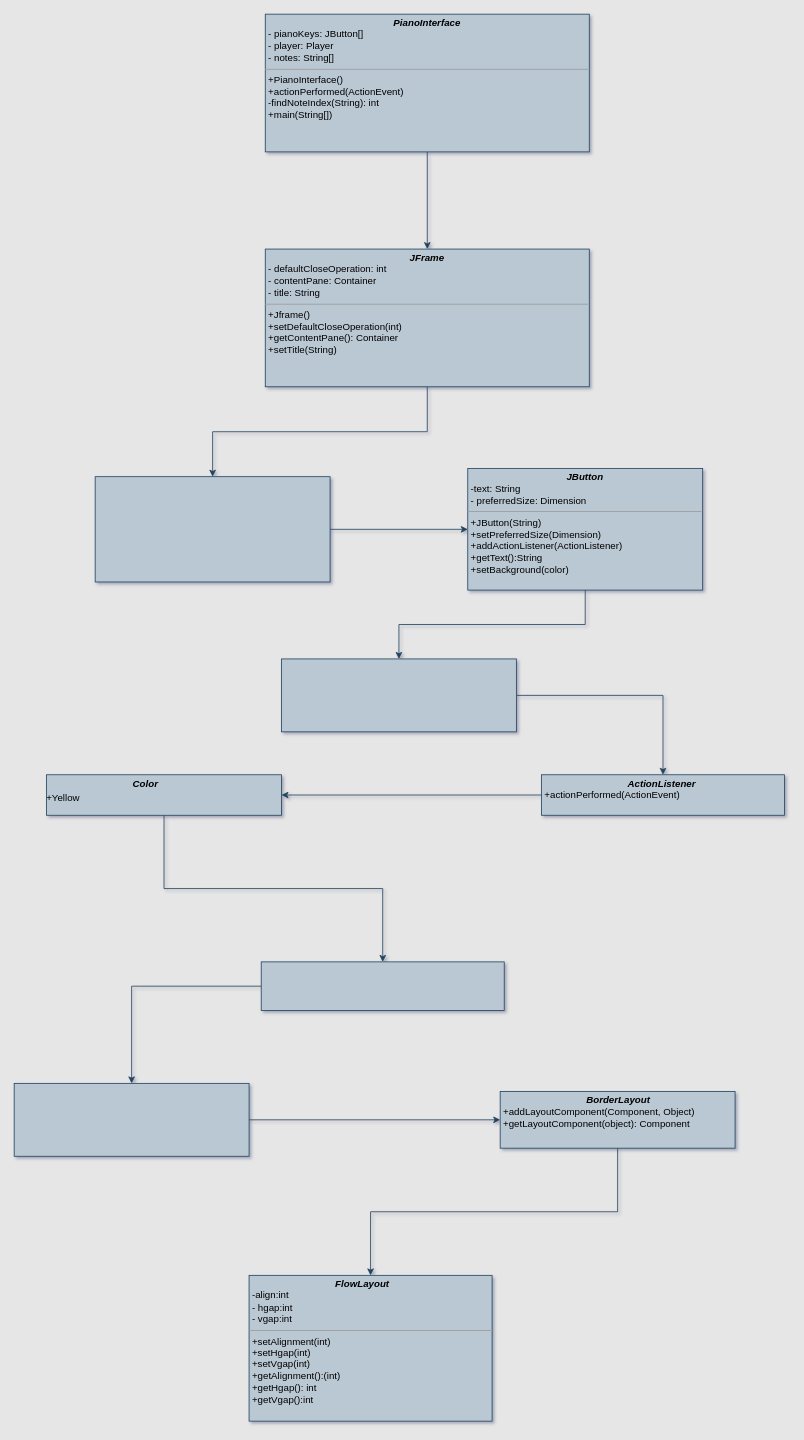
Image size: 804x1440. Some labels were removed from this diagram. The shapes that lost their labels are listed below. From the top down, each one's centre as x and y in pixels, then its label:
At pixel 212 529: "JPanel -layout: LayoutManager +JPanel() +setLayout(LayoutManager)".
At pixel 398 695: "Player -playerField:Player +Player() +Play(String)".
At pixel 382 985: "Thread +Thread(Runnable) +start()".
At pixel 131 1119: "Dimension -width:int -height:int +Dimension(int,int)".
